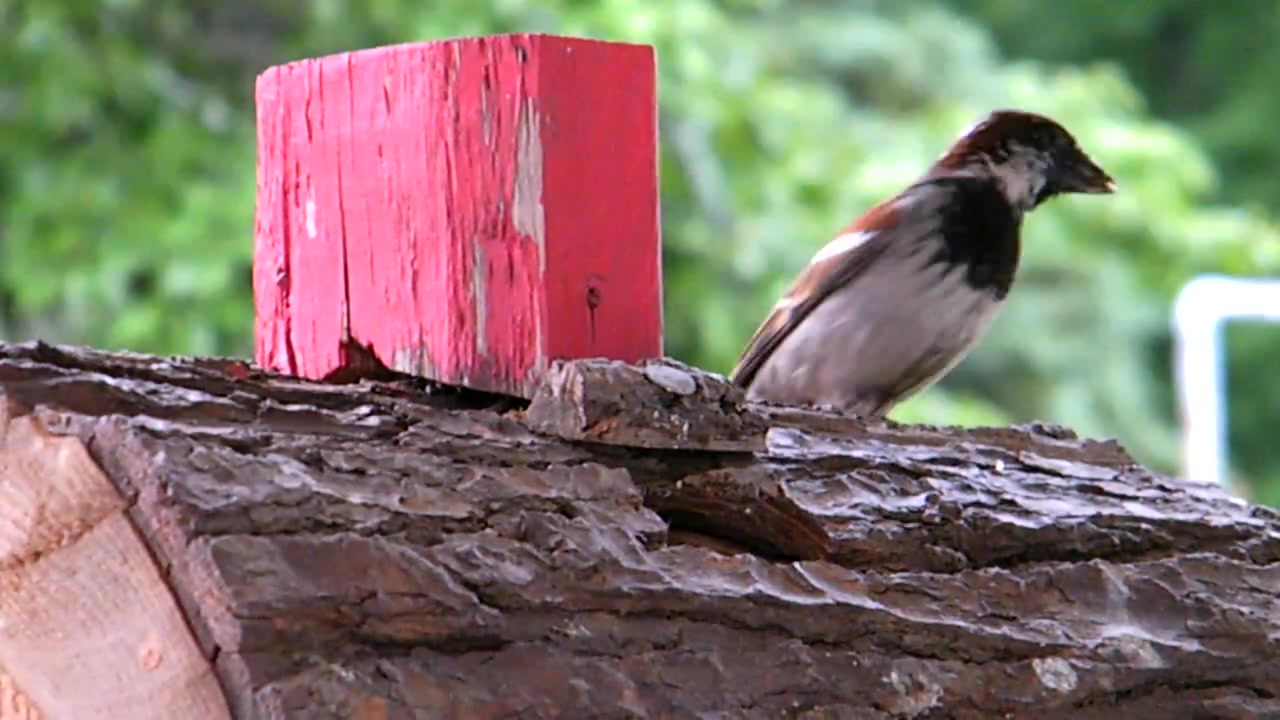bird: (727, 110, 1120, 418)
